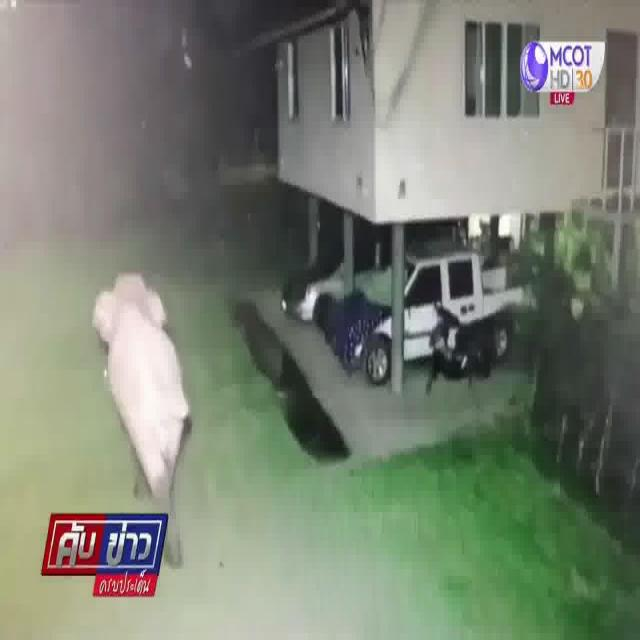Elephant: (89, 266, 194, 484)
